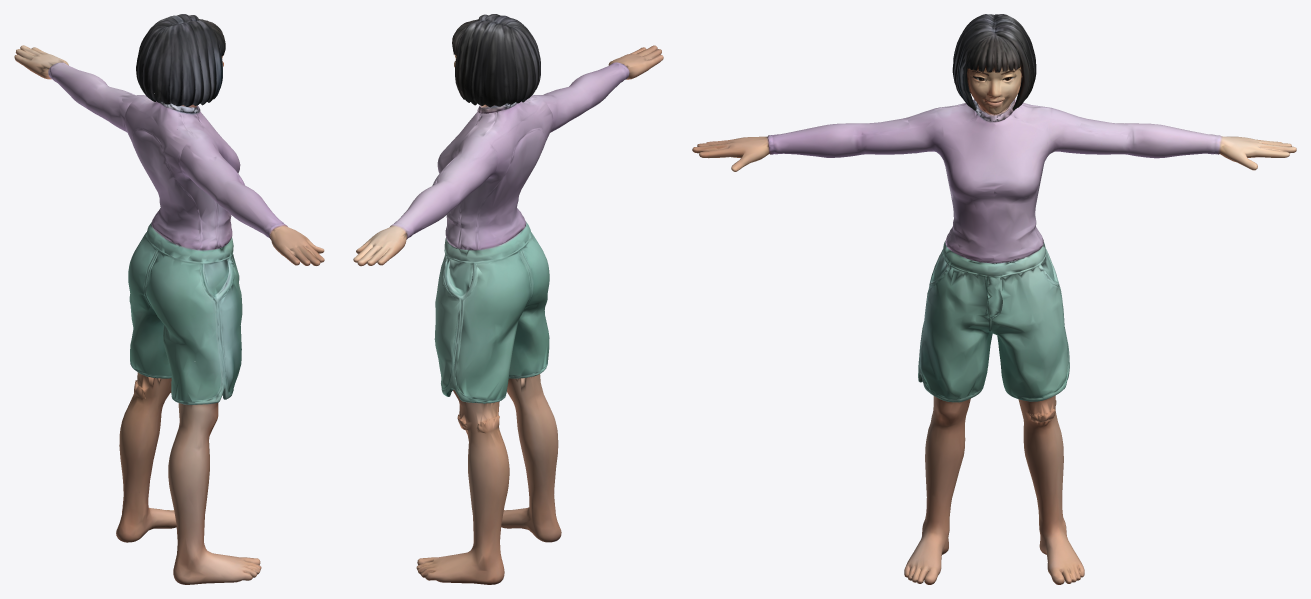
Rendered from the-flyer.glb.
3 views of the same model, side by side, from view 1: azimuth 30°, elevation 25°; view 2: azimuth 150°, elevation 25°; view 3: azimuth 270°, elevation 25° (orthographic).
Parts seen in each view (by area): view 1: the-flyer; view 2: the-flyer; view 3: the-flyer.
Part boxes in pixels (<box>): the-flyer: <box>14,14,324,584</box>; the-flyer: <box>353,14,663,584</box>; the-flyer: <box>692,14,1296,584</box>.
Bounding box in the file's own units: 0.1651 × 0.9779 × 0.9811.
Materials: 1 (1 with a texture image).
